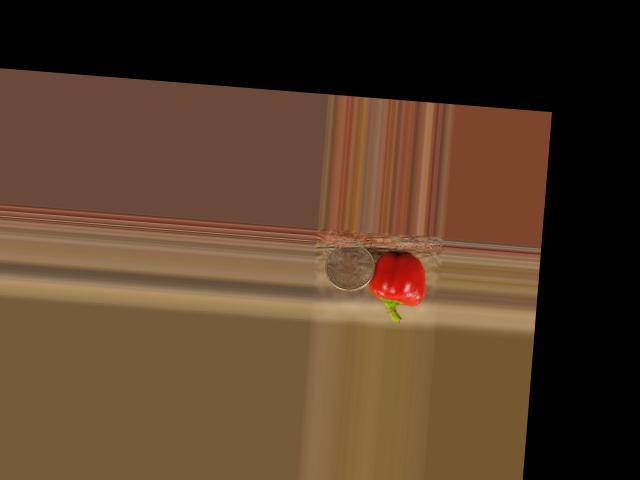bell_pepper: (368, 248, 428, 323)
